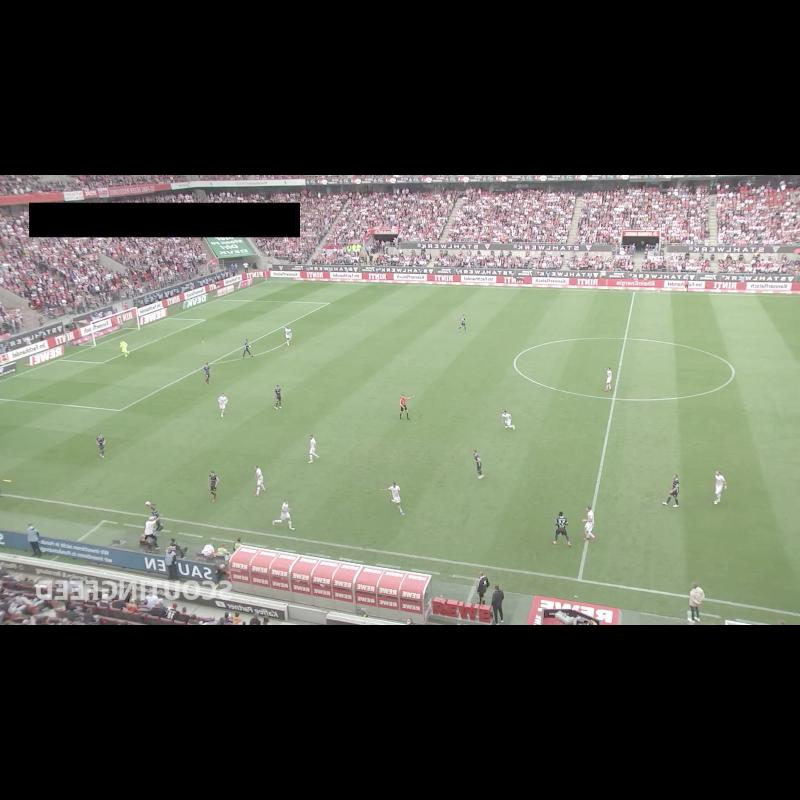cross_recipient_zone: (0, 299, 329, 410)
crossing_player_zone: (219, 281, 442, 306)
pitch: (0, 281, 800, 615)
